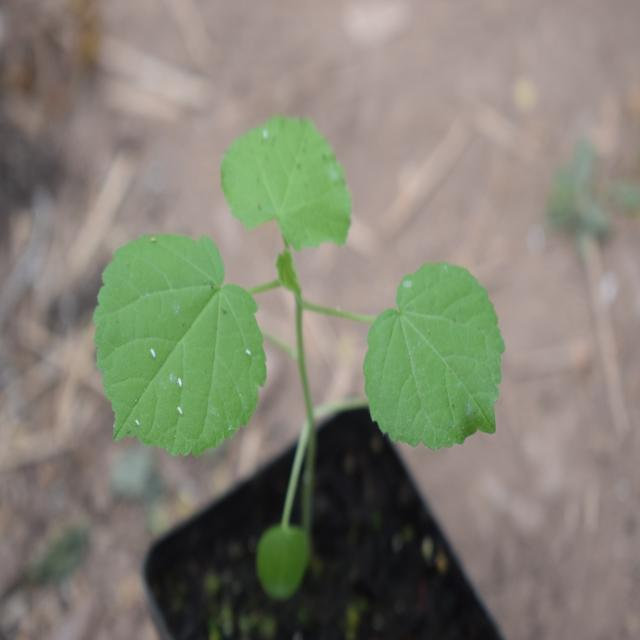abutilon theophrasti: (82, 102, 495, 515)
